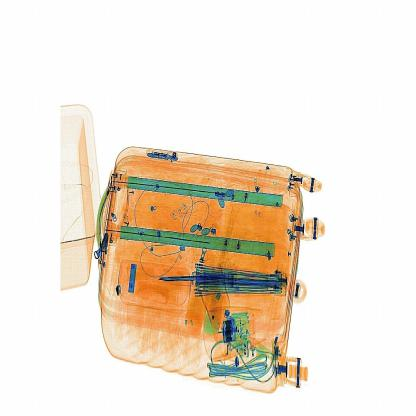pliers: (148, 260, 221, 290)
